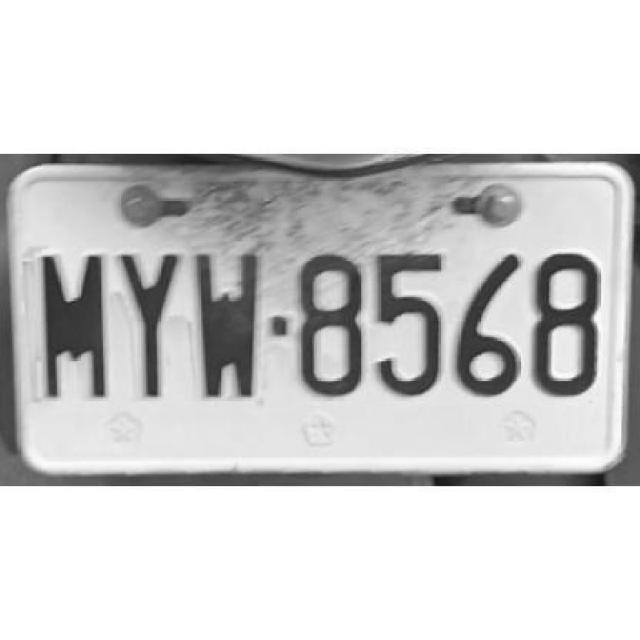-: (268, 308, 289, 343)
5: (371, 248, 446, 403)
6: (449, 246, 523, 403)
8: (529, 243, 602, 408), (292, 246, 366, 403)
M: (32, 245, 110, 408)
W: (188, 243, 262, 406)
Y: (109, 245, 180, 406)
